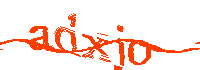a: (30, 25, 50, 51)
d: (55, 11, 79, 54)
j: (113, 26, 126, 70)
o: (127, 39, 151, 68)
x: (82, 33, 111, 64)
